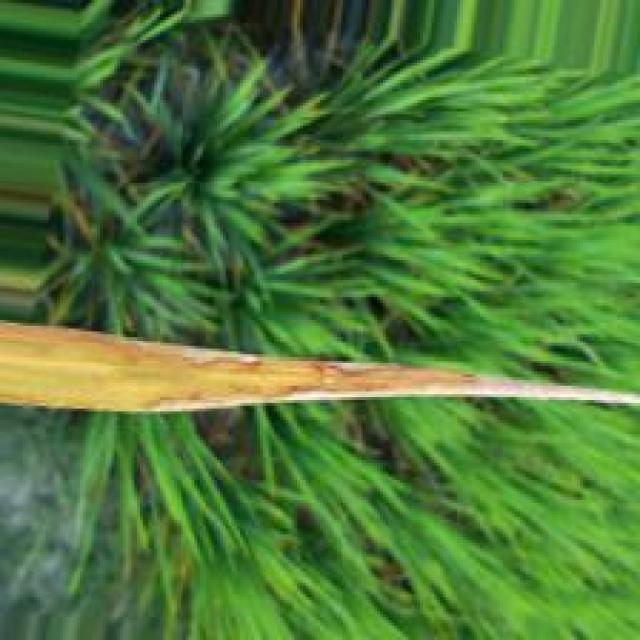Bacterial_Leaf_Blight: (0, 316, 640, 419)
